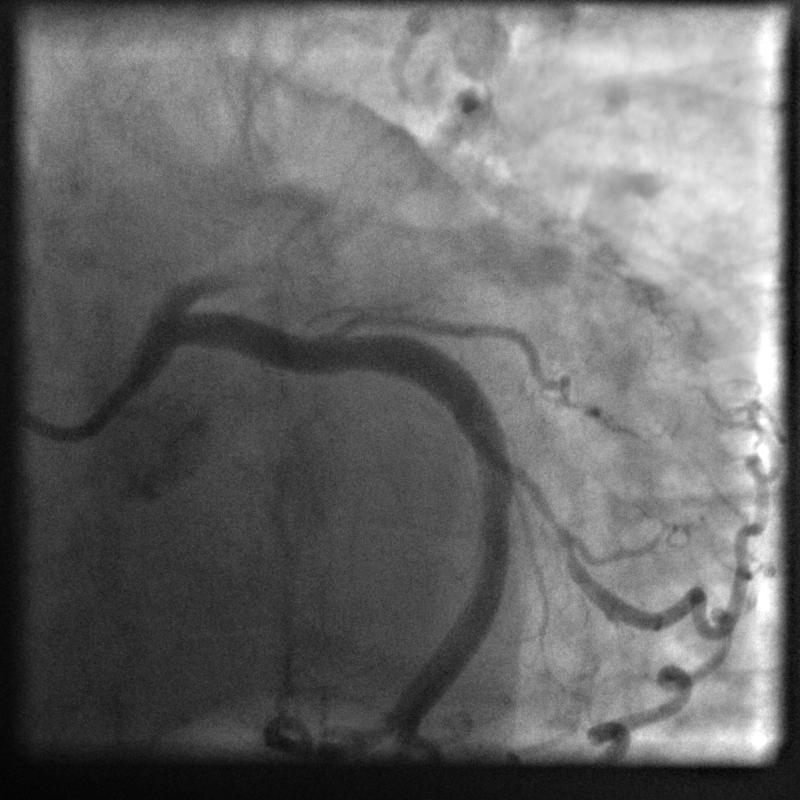Stenosis: (499, 443, 588, 560)
